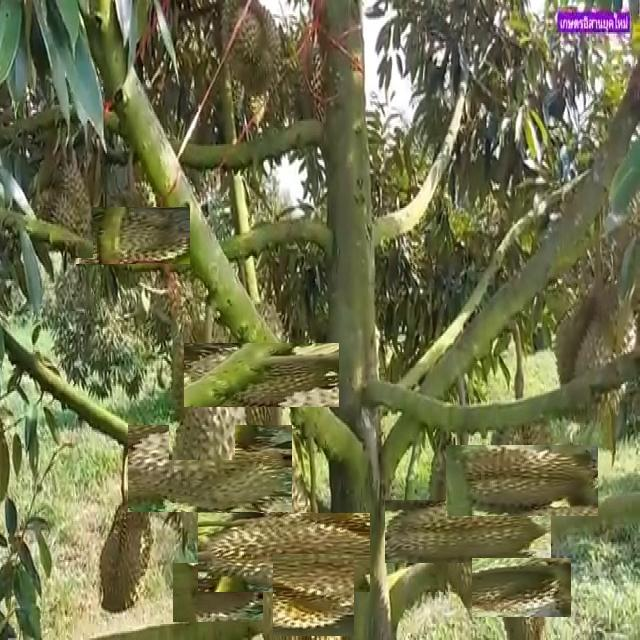durian: (147, 405, 273, 531), (222, 489, 348, 615), (411, 473, 525, 589), (466, 424, 578, 536), (554, 277, 637, 426), (207, 319, 316, 430), (169, 312, 235, 460), (89, 193, 176, 279), (96, 495, 154, 618), (272, 554, 354, 636), (219, 0, 284, 99), (30, 156, 93, 258), (482, 548, 561, 628), (180, 555, 255, 630)
